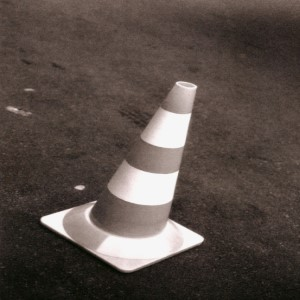traffic cone: (39, 80, 205, 272)
